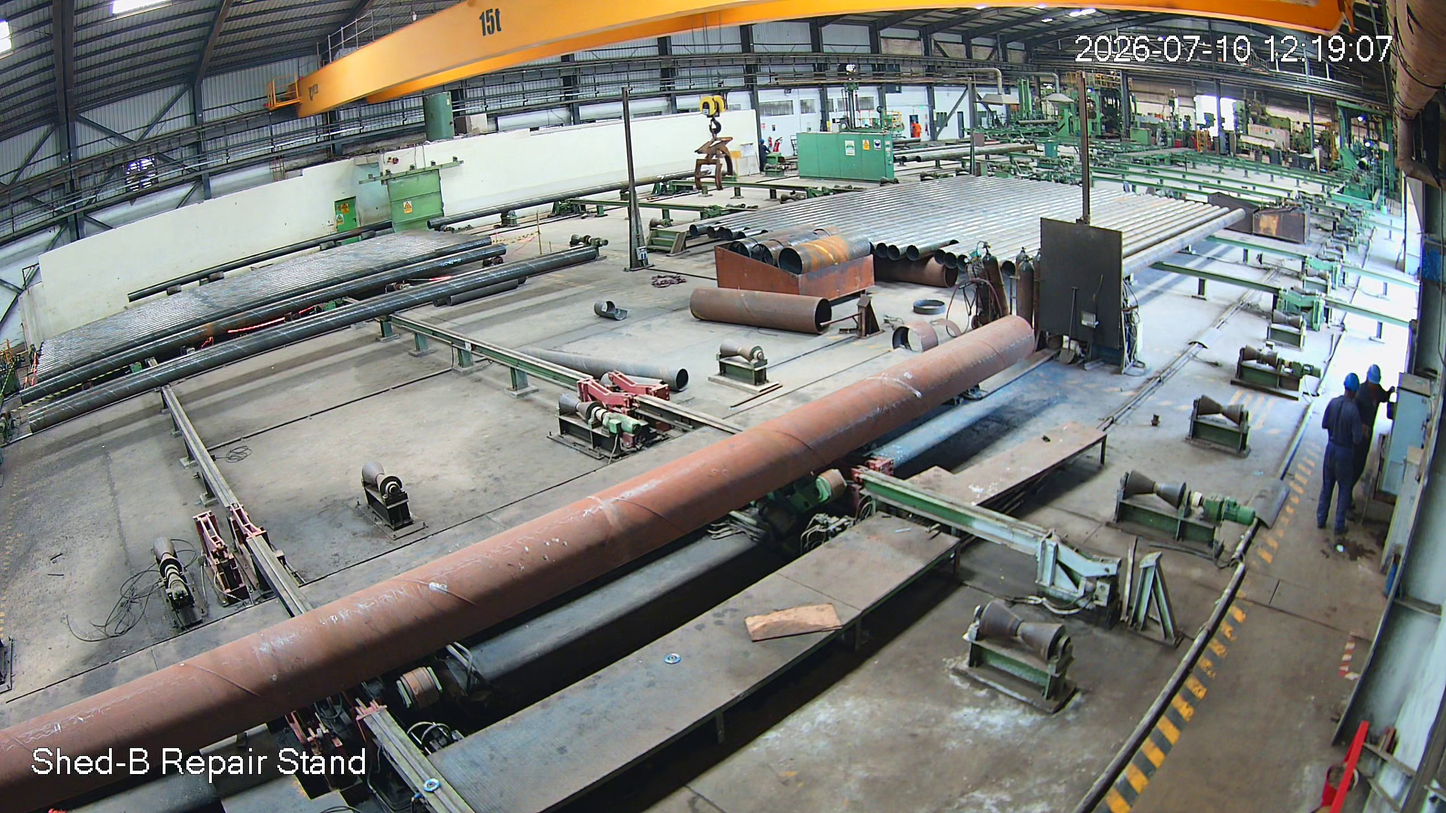Helmet: (1339, 366, 1359, 401), (1362, 360, 1379, 394)
Person: (1310, 371, 1360, 535), (1357, 363, 1396, 489)
